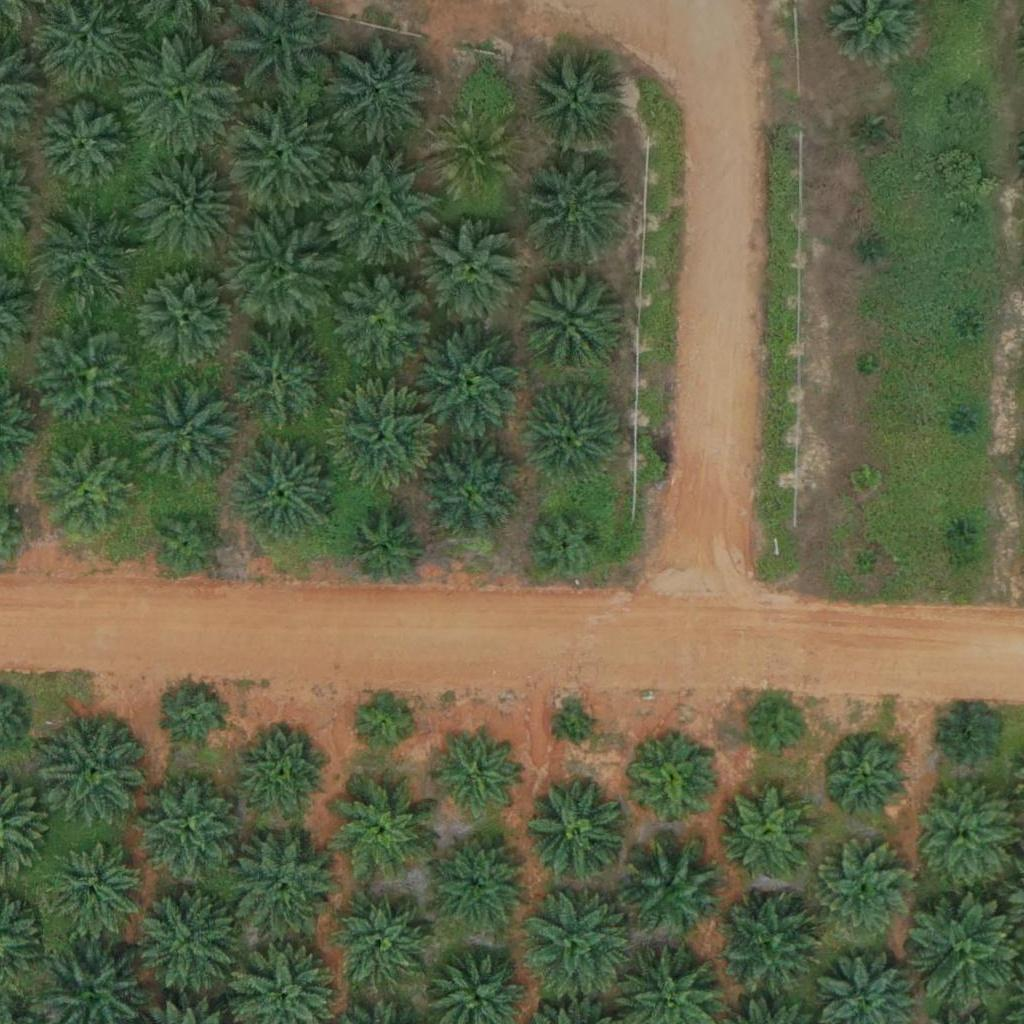Kelapa_Sawit: (327, 36, 440, 150), (325, 152, 438, 266), (714, 888, 827, 1002), (414, 325, 527, 438), (225, 93, 337, 207), (327, 386, 439, 499), (522, 151, 634, 264), (222, 218, 334, 331), (125, 40, 237, 153), (520, 882, 632, 995), (524, 51, 624, 152), (421, 443, 521, 544), (230, 334, 330, 435), (234, 441, 334, 542), (136, 157, 236, 258), (137, 270, 237, 371), (137, 379, 237, 480), (36, 202, 136, 303), (38, 328, 138, 429), (38, 440, 138, 541), (47, 719, 147, 820), (41, 840, 141, 941), (138, 776, 238, 877), (138, 888, 238, 989), (233, 833, 333, 934), (335, 780, 435, 881), (330, 895, 430, 996), (427, 832, 527, 933), (810, 842, 910, 943), (914, 783, 1014, 884), (519, 271, 619, 371), (524, 385, 624, 485), (425, 224, 525, 324), (331, 274, 431, 374), (527, 777, 627, 877), (622, 835, 722, 935), (430, 114, 518, 202), (432, 732, 520, 820), (725, 787, 813, 875), (824, 736, 912, 824), (38, 104, 125, 192), (244, 729, 331, 817), (631, 741, 718, 829), (530, 507, 605, 583), (348, 513, 423, 588), (152, 507, 227, 582), (936, 706, 999, 769), (165, 686, 227, 749), (351, 687, 413, 750), (746, 699, 808, 762), (950, 89, 988, 127), (558, 707, 595, 745), (959, 204, 984, 229), (953, 320, 978, 345), (859, 124, 884, 149), (859, 237, 884, 262), (855, 355, 880, 380), (851, 467, 876, 492), (854, 551, 879, 576), (954, 409, 979, 434), (947, 519, 972, 544)
